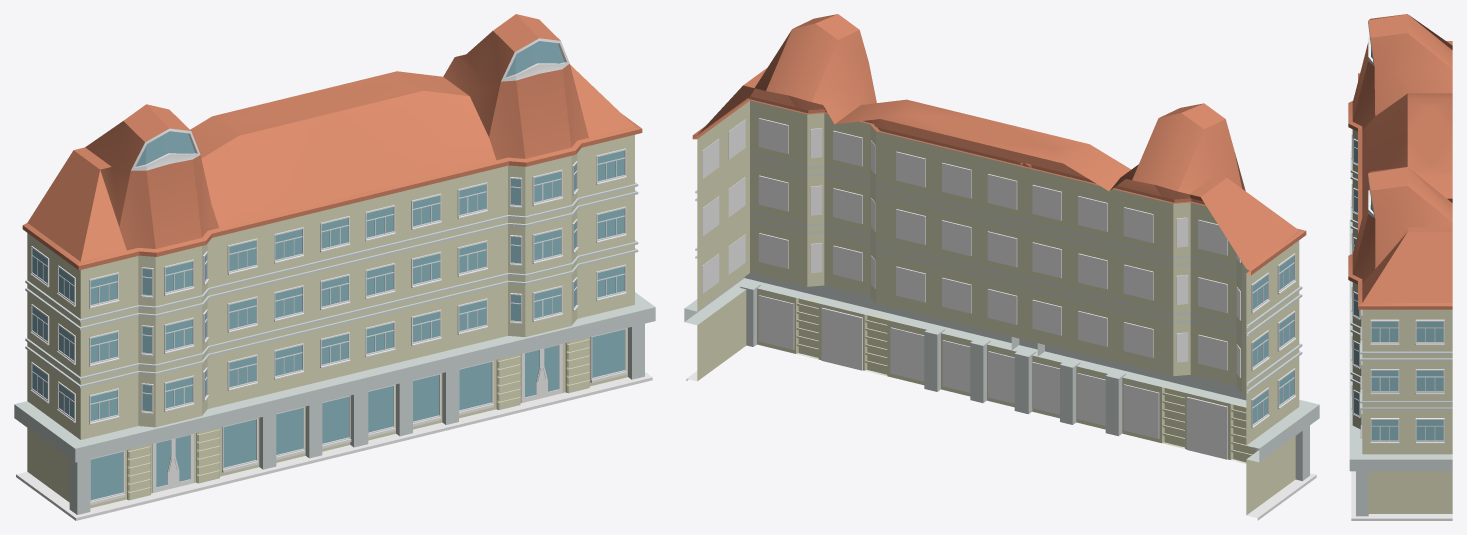
File: musée.fbx
3 renders of one model, left to right at view 1: azimuth 30°, elevation 25°; view 2: azimuth 150°, elevation 25°; view 3: azimuth 270°, elevation 25°, orthographic. The views are drawn at different scales.
Visible parts, largest first — view 1: Building_facad001, Building_facad, glass_074, window_frame_059, Cube_024, Cube_026, Cube_1_003, Cube_1_2, Cube_12, Cube_5, Cube_2_3; view 2: Building_facad, Building_facad001, window_frame_059, glass_074, Cube_026, Cube_5, Cube_1_2, Cube_1_003, Cube_2_004, Cube_12, Cube_2_3, Cube_024; view 3: Building_facad, Building_facad001, window_frame_059, glass_074, Cube_12, glass_38, glass_41.
Boxes of the visible parts, x1,y1,x2,y2 form: Building_facad001: (14, 93, 377, 520); Building_facad: (306, 14, 655, 451); glass_074: (32, 150, 624, 500); window_frame_059: (30, 148, 627, 505); Cube_024: (69, 459, 90, 514); Cube_026: (259, 413, 276, 469); Cube_1_003: (305, 402, 322, 458); Cube_1_2: (396, 380, 412, 436); Cube_12: (628, 323, 644, 379); Cube_5: (442, 369, 458, 424); Cube_2_3: (350, 391, 366, 447); Building_facad: (684, 14, 1044, 407); Building_facad001: (970, 103, 1319, 520); window_frame_059: (702, 118, 1295, 459); glass_074: (1252, 256, 1293, 424); Cube_026: (1105, 370, 1125, 436); Cube_5: (924, 326, 944, 391); Cube_1_2: (970, 337, 990, 402); Cube_1_003: (1060, 359, 1080, 424); Cube_2_004: (1014, 348, 1034, 413); Cube_12: (740, 281, 760, 346); Cube_2_3: (1015, 349, 1035, 414); Cube_024: (1295, 425, 1309, 480); Building_facad: (1348, 137, 1452, 520); Building_facad001: (1348, 14, 1452, 344); window_frame_059: (1351, 129, 1444, 443); glass_074: (1354, 140, 1443, 440); Cube_12: (1356, 471, 1368, 516); glass_38: (1416, 321, 1443, 341); glass_41: (1371, 321, 1398, 341).
Bounding box in the file's own units: 5624 × 3400 × 1036.
